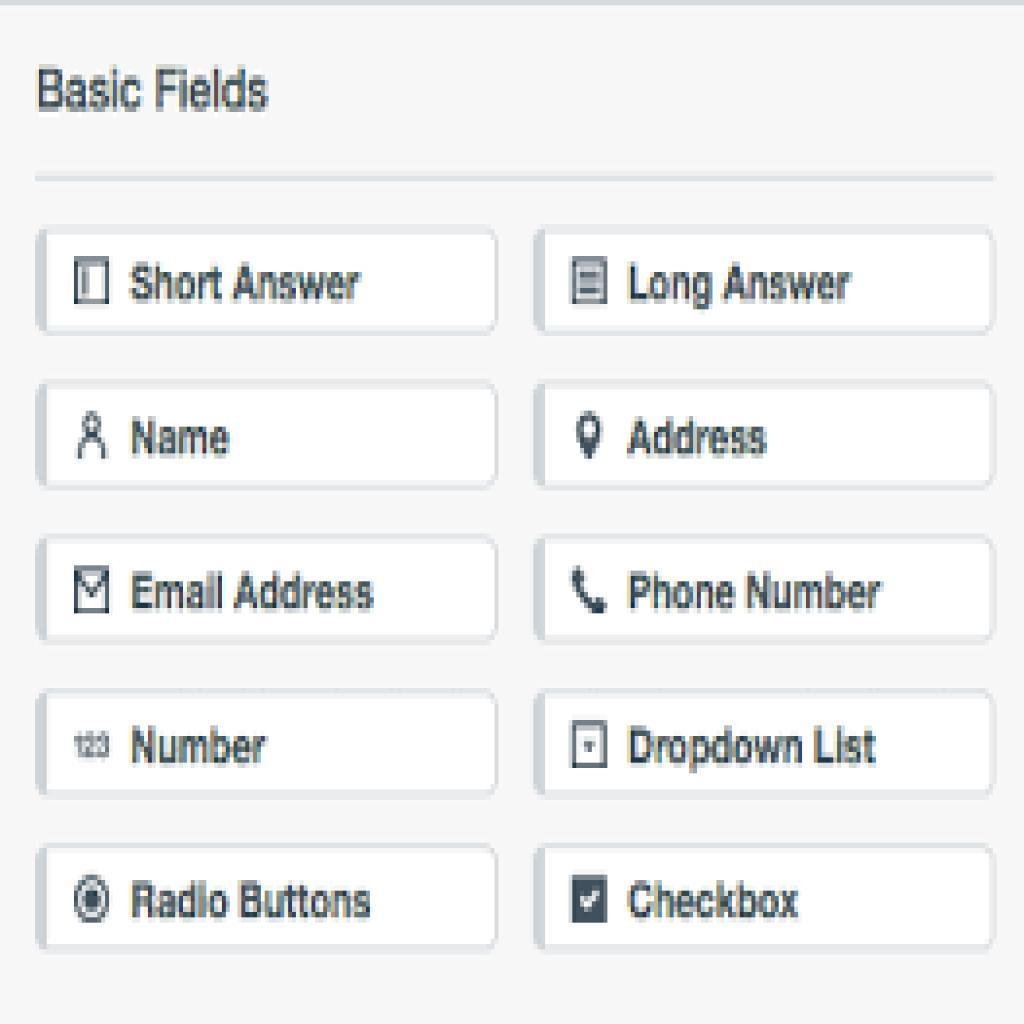checkbox: (571, 873, 610, 926)
icon: (544, 546, 630, 630), (545, 395, 624, 485), (63, 549, 129, 625), (60, 242, 121, 323), (559, 239, 615, 323), (63, 406, 123, 470), (563, 713, 620, 778)
radio: (70, 867, 119, 927)
